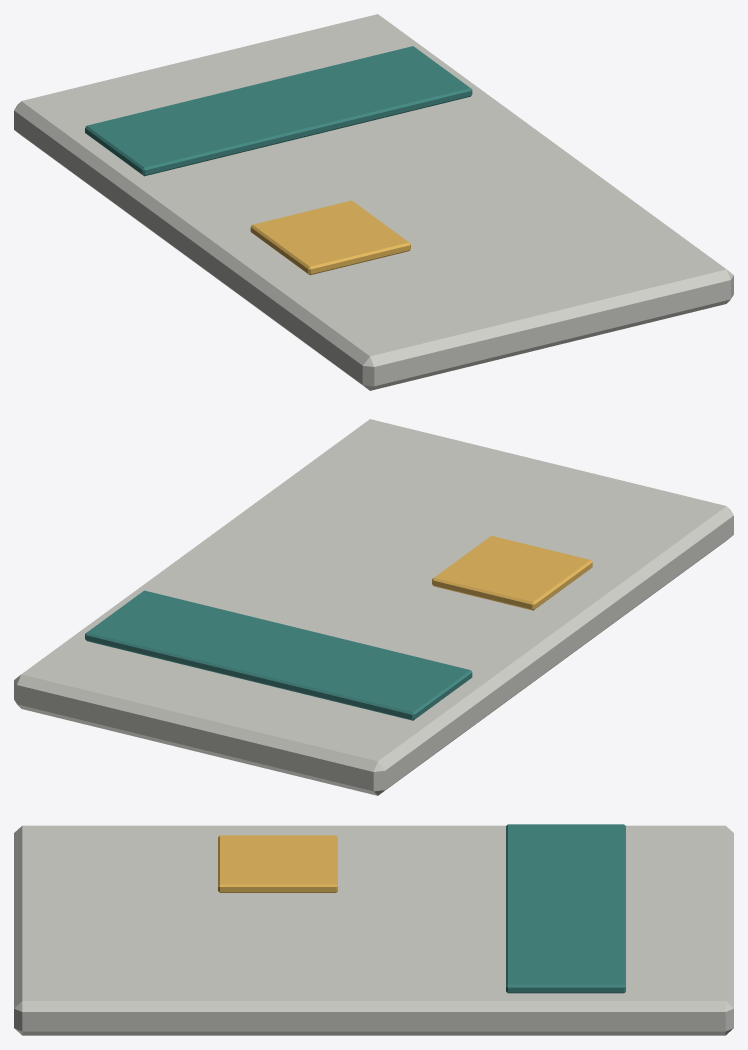
The model's file is props-keycard.lod0.glb.
3 views of the same model, one above another, from view 1: azimuth 30°, elevation 25°; view 2: azimuth 150°, elevation 25°; view 3: azimuth 270°, elevation 25° (orthographic).
Parts seen in each view (by area): view 1: props-keycard__body; view 2: props-keycard__body; view 3: props-keycard__body.
Part boxes in pixels (x1,y1,x2,y2): props-keycard__body: [14, 14, 733, 390]; props-keycard__body: [14, 419, 733, 795]; props-keycard__body: [14, 824, 733, 1035].
Size of the model in its own units: 0.09 by 0.01 by 0.15.
